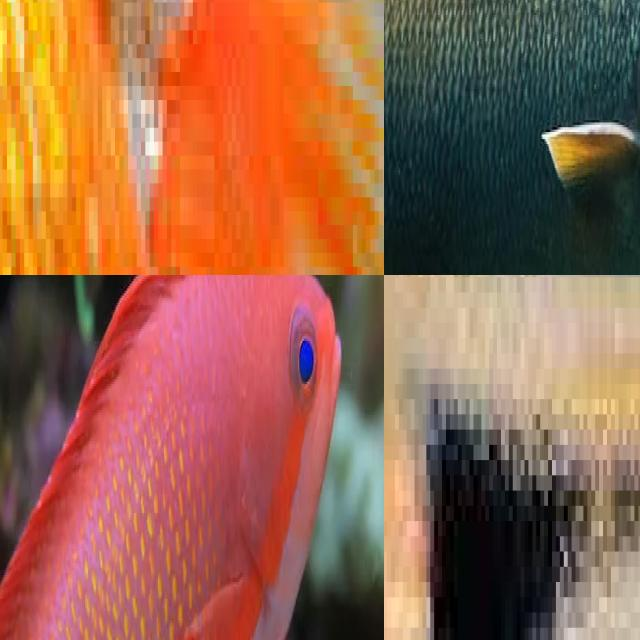fish: (0, 275, 379, 640), (0, 0, 384, 275), (384, 0, 640, 275)
